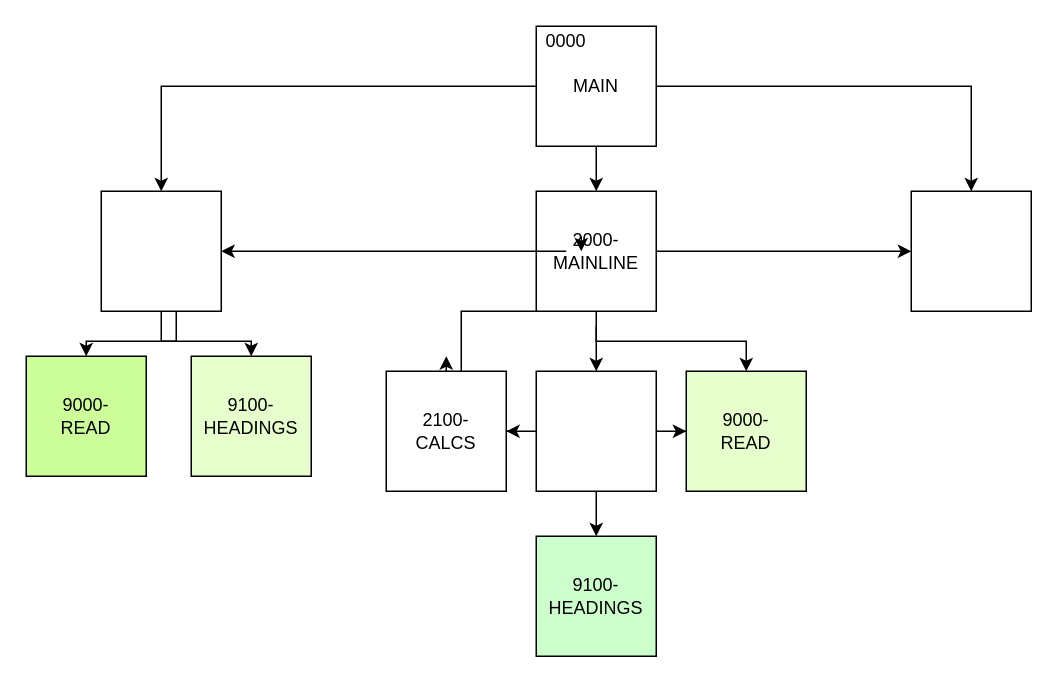
The diagram is 1058 pixels wide and 683 high, and some of its shapes have lost their labels. The shapes that lost their labels are listed below. From the top down, each one's box as (x1, y1, x2, y2) in pixels, then its label:
(100, 190, 221, 311): 1000-INIT
(910, 190, 1031, 311): 3000-CLOSING
(535, 370, 656, 491): 2200-OUTPUT
